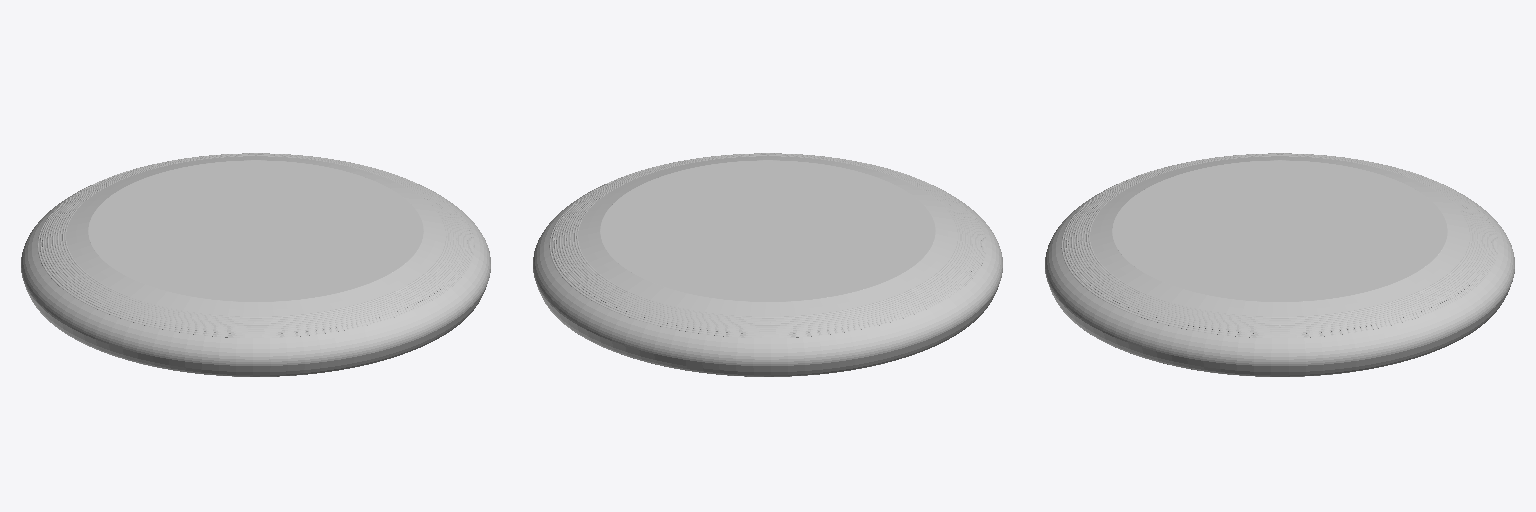
File: Frisbee_Model_without_material.obj
The picture shows the model from 3 angles: view 1: azimuth 30°, elevation 25°; view 2: azimuth 150°, elevation 25°; view 3: azimuth 270°, elevation 25°; orthographic projection.
Size of the model in its own units: 275 by 31.99 by 275.